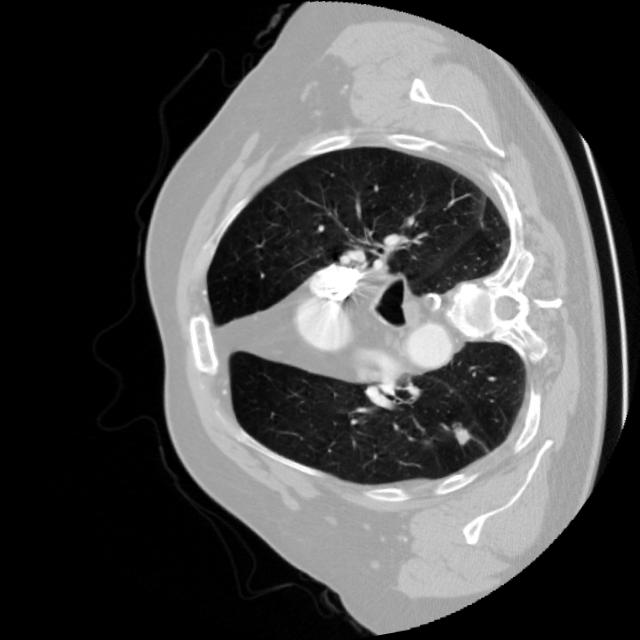nodule: (438, 410, 483, 456)
